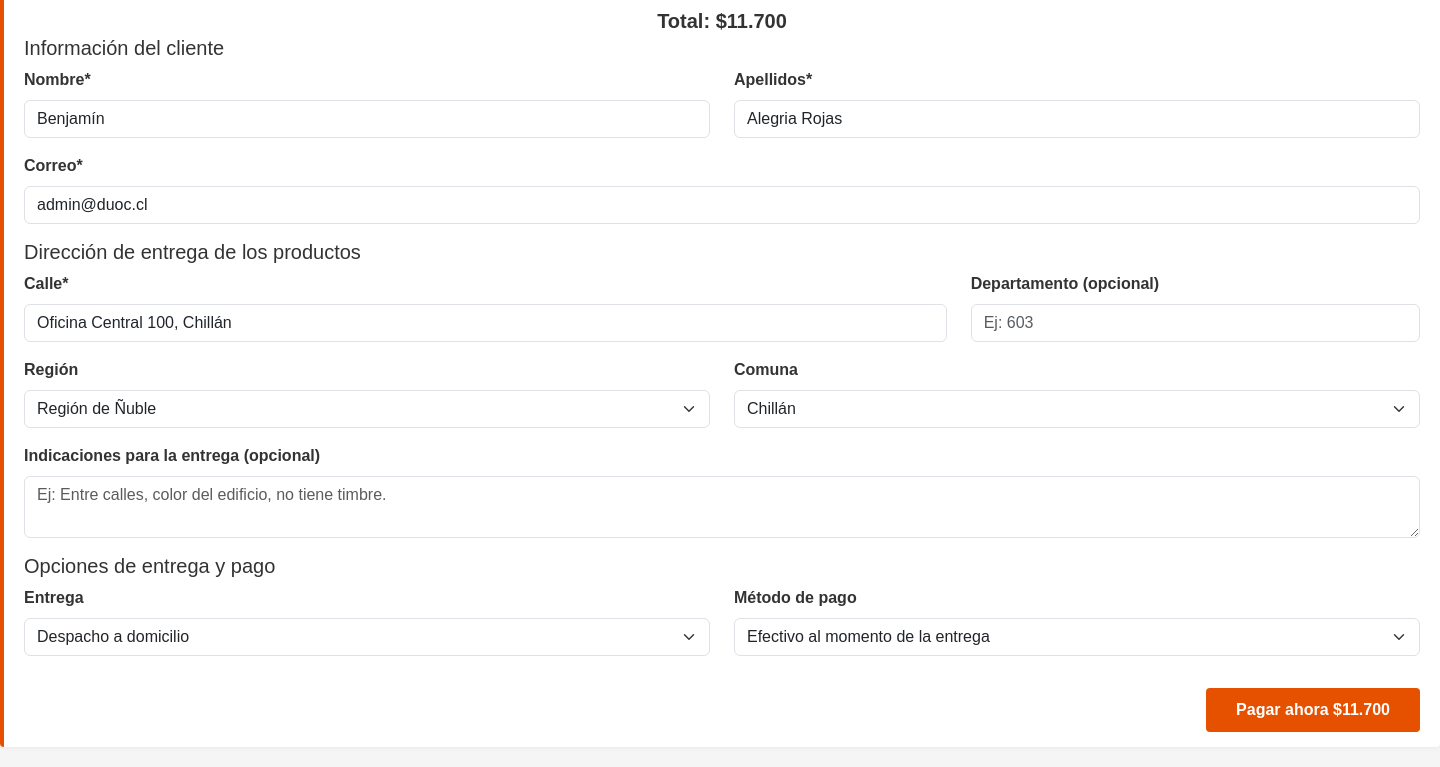
Test: Checkout › pago con error (tarjeta 0000): guarda orden "pago-fallido", conserva el carrito y ofrece reintentar
The image size is (1440, 767).
(page scrolled)
Select "Tarjeta (pago simulado)" in the dropdown labelled "Método de pago" at {"x": 1077, "y": 637}, box [734,618,1420,656]
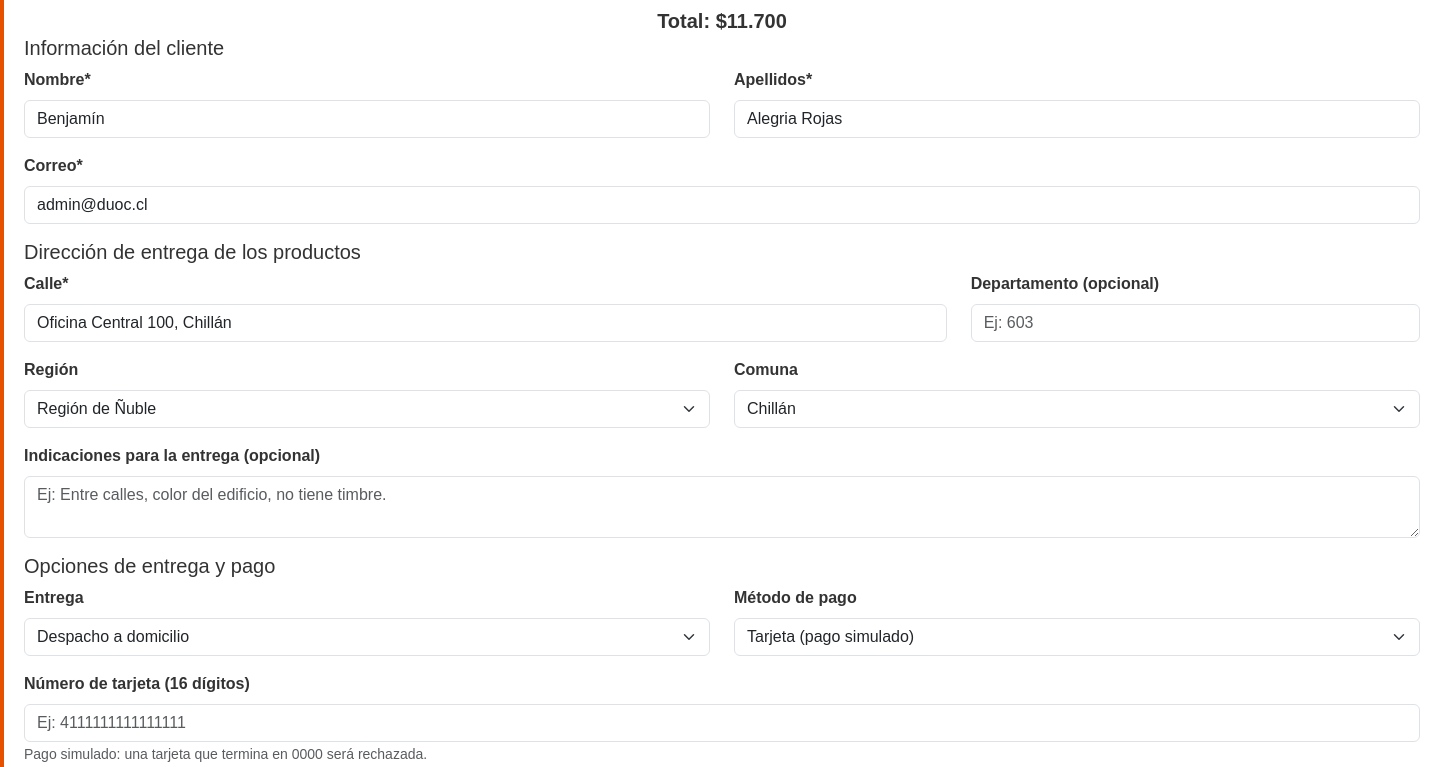
Type "4111111111110000" into the field labelled "Número de tarjeta (16 dígitos)".
click(722, 723); type("4111111111110000")  # box [24,704,1420,742]
(page scrolled)
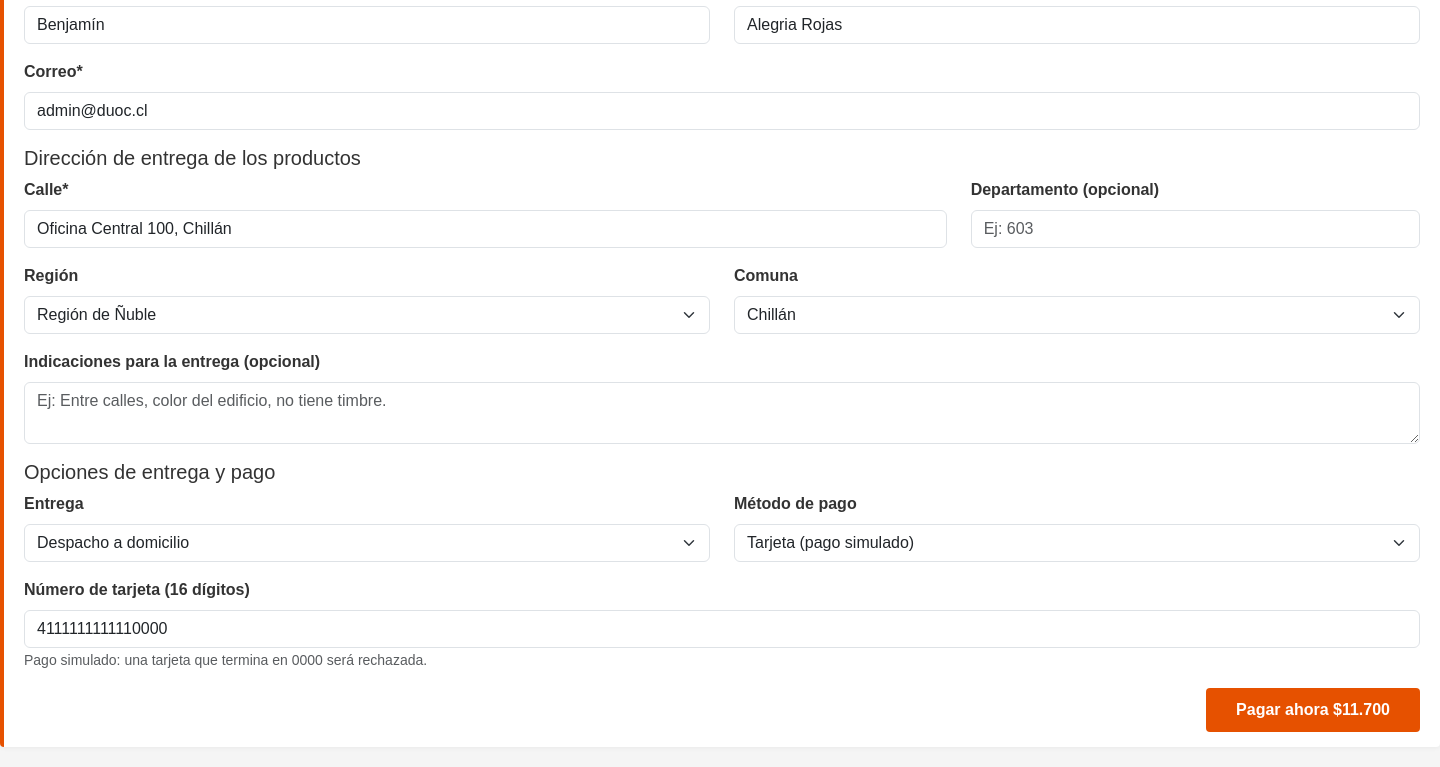
Click the button "Pagar ahora $11.700".
click(1313, 710)  # box [1206,688,1420,732]
(page scrolled)
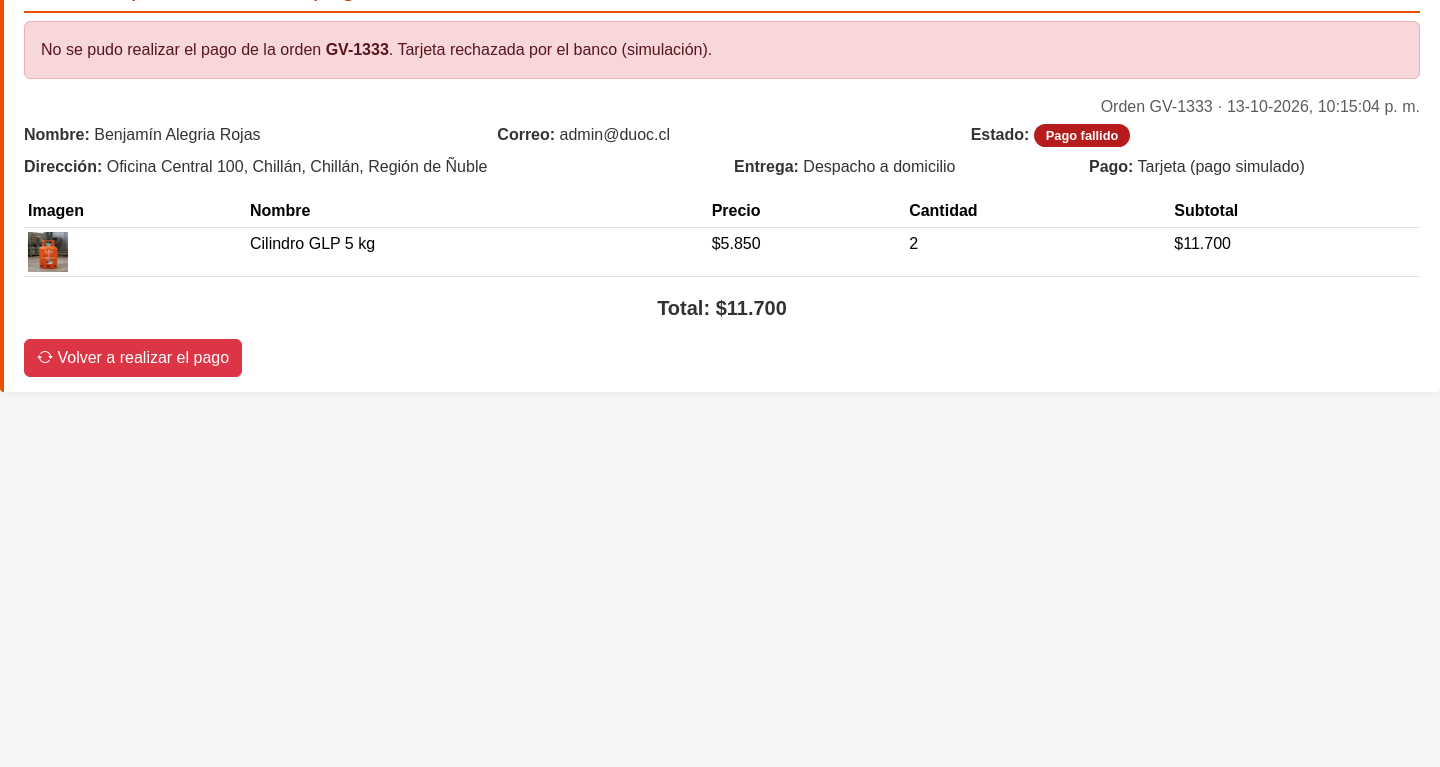
Now the text "No se pudo realizar el pago" is shown, box [41,41,326,58]
Now the link "Volver a realizar el pago" is shown, box [24,339,242,377]
